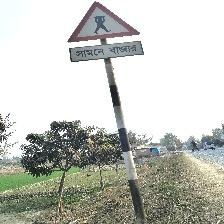Market-in-front: (67, 0, 144, 63)
